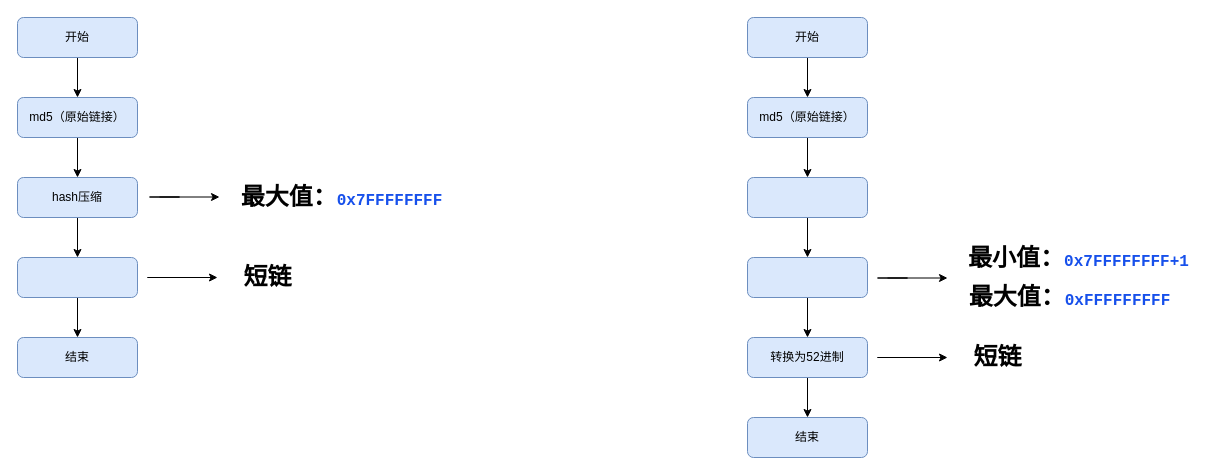
The diagram is 1206 pixels wide and 475 high, and some of its shapes have lost their labels. Each missing label, with the centre of its shape:
"hash压缩+ 0x7FFFFFFFF" belongs at (807,277).
"hash压缩值" belongs at (807,197).
"转换为62进制" belongs at (77,277).
